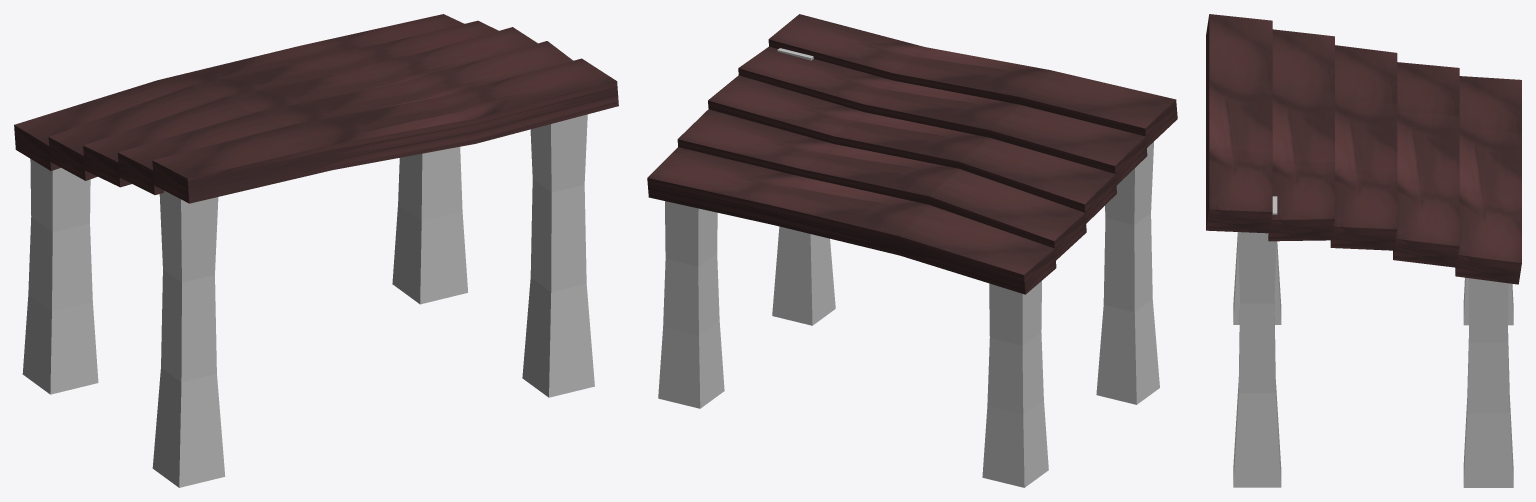
Rendered from Shed.fbx.
The picture shows the model from 3 angles, left to right: view 1: azimuth 30°, elevation 25°; view 2: azimuth 150°, elevation 25°; view 3: azimuth 270°, elevation 25°; orthographic projection. The views are drawn at different scales.
Visible parts, largest first — view 1: Shed; view 2: Shed; view 3: Shed.
Part boxes in pixels (bbox=[...]): Shed: bbox=[14, 14, 618, 487]; Shed: bbox=[647, 14, 1177, 487]; Shed: bbox=[1206, 14, 1521, 487].
Size of the model in its own units: 494 by 352 by 349.
